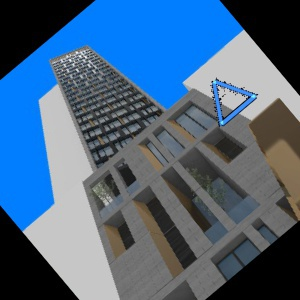triangle: (211, 74, 258, 129)
